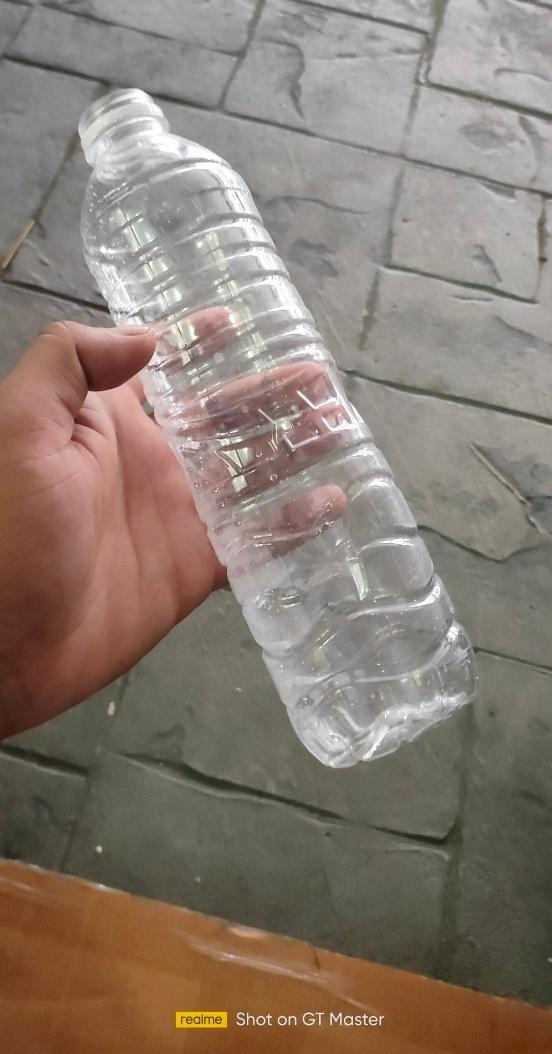plastic_bottle: (81, 89, 479, 767)
